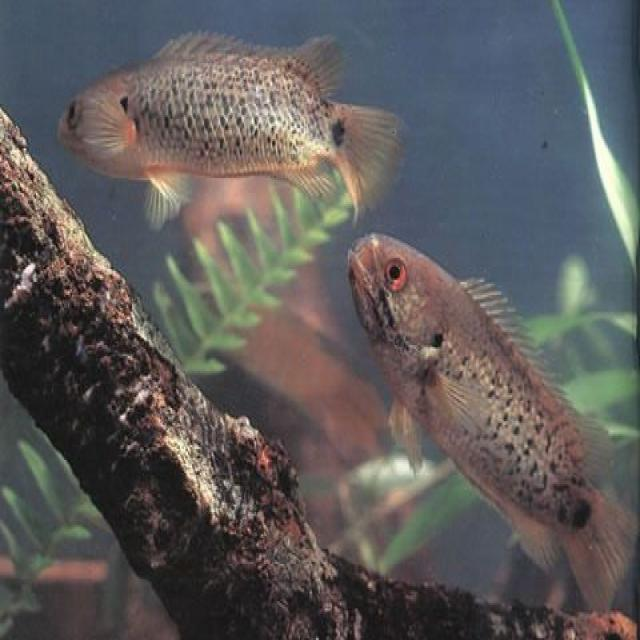Climbing-Perch: (46, 31, 406, 218)
